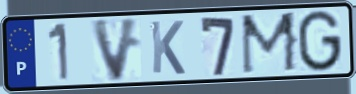1: (46, 21, 70, 83)
7: (199, 15, 236, 77)
G: (297, 8, 343, 74)
K: (148, 19, 187, 76)
M: (239, 10, 300, 77)
V: (88, 16, 143, 84)
